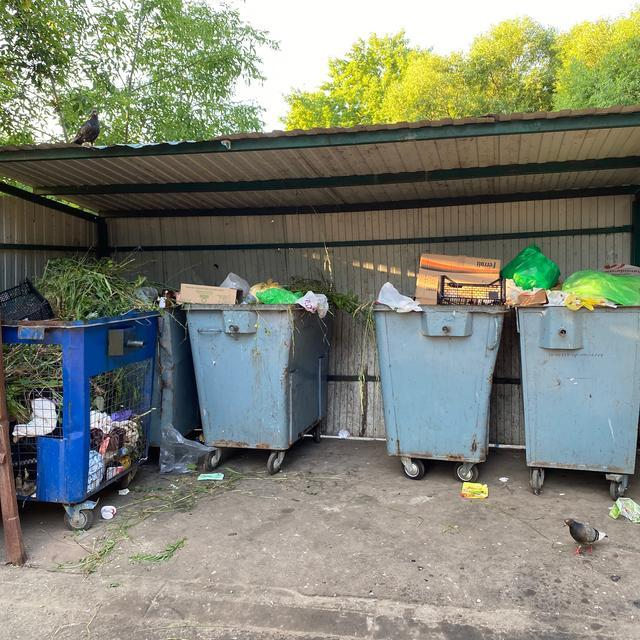Trash_Can_Full: (3, 255, 162, 504), (370, 252, 509, 464), (513, 244, 640, 475), (179, 274, 337, 450)
